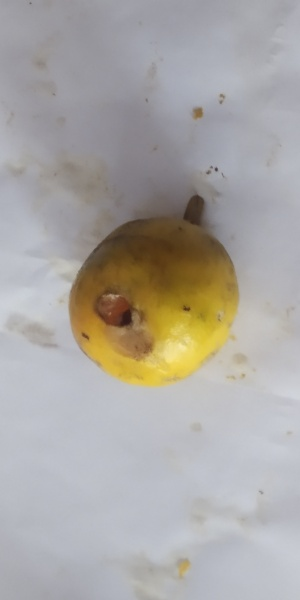BAD: (68, 209, 239, 388)
